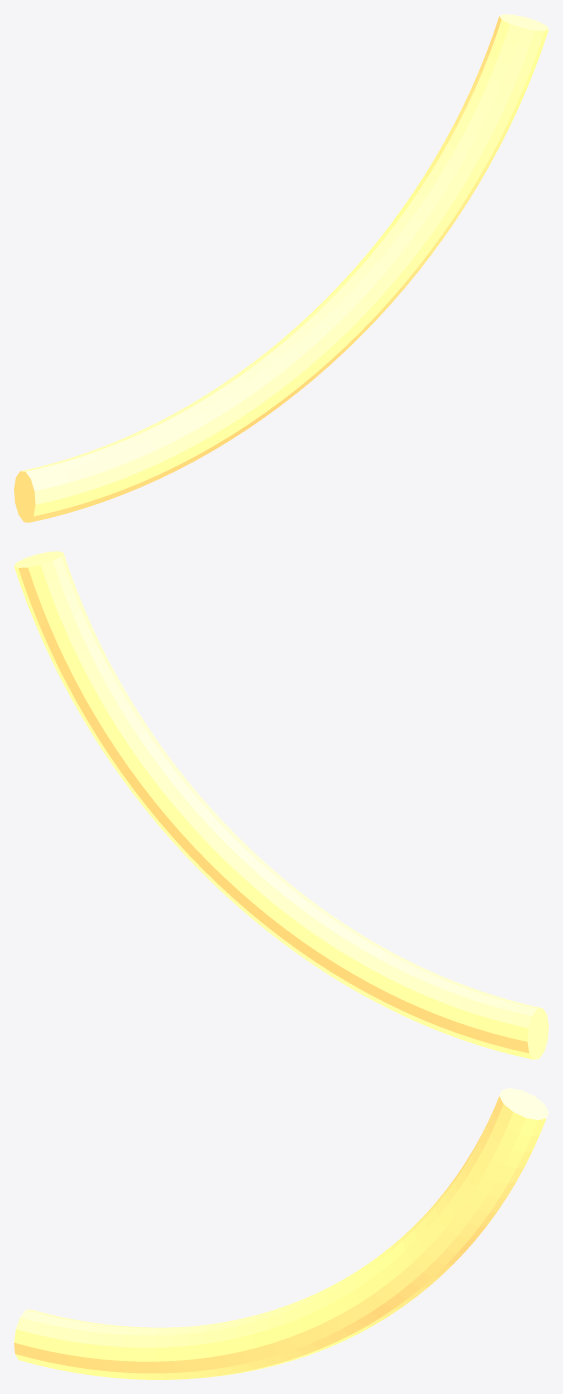
The model's file is ev_core_r10dp_halo_amber_rear.glb.
3 views of the same model, one above another, from view 1: azimuth 30°, elevation 25°; view 2: azimuth 150°, elevation 25°; view 3: azimuth 330°, elevation 25° (orthographic).
Parts seen in each view (by area): view 1: amber_rear; view 2: amber_rear; view 3: amber_rear.
Part boxes in pixels (<box>): amber_rear: <box>14,14,548,522</box>; amber_rear: <box>14,551,548,1059</box>; amber_rear: <box>14,1088,548,1379</box>.
Size of the model in its own units: 61.2 by 43.24 by 4.37.
